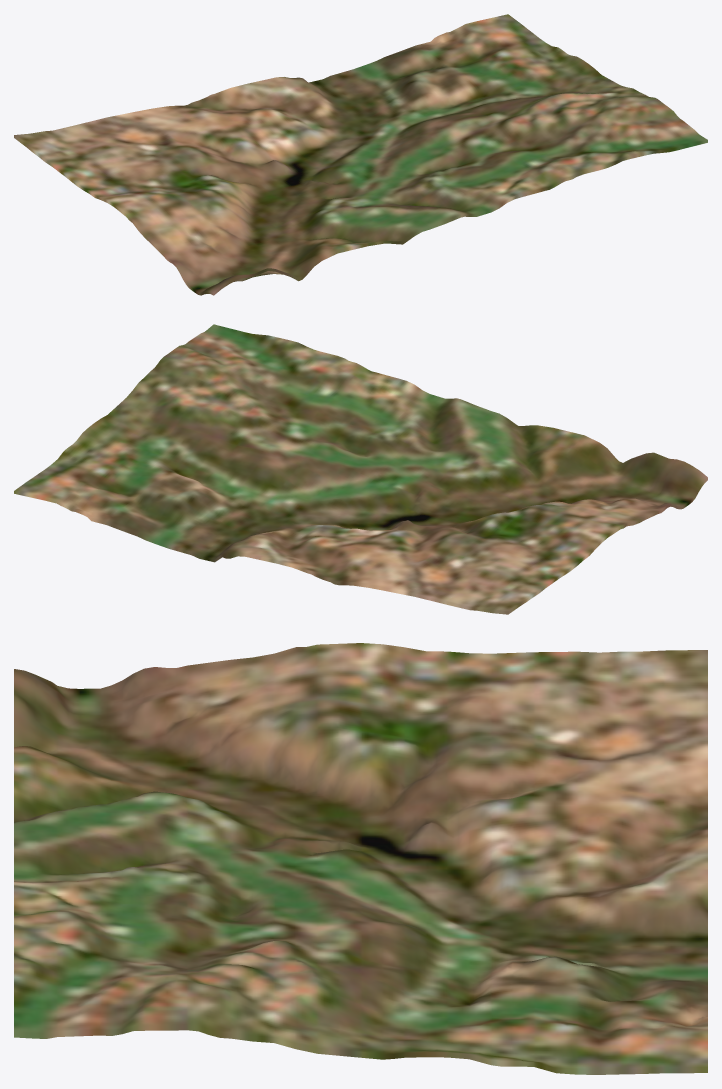
The model's file is terrain_r2_c0_lod1.glb.
3 views of the same model, one above another, from view 1: azimuth 30°, elevation 25°; view 2: azimuth 150°, elevation 25°; view 3: azimuth 270°, elevation 25° (orthographic). The views are drawn at different scales.
Parts seen in each view (by area): view 1: terrain_r2_c0_lod1; view 2: terrain_r2_c0_lod1; view 3: terrain_r2_c0_lod1.
Part boxes in pixels (x1,y1,x2,y2): terrain_r2_c0_lod1: [14, 14, 707, 295]; terrain_r2_c0_lod1: [14, 324, 707, 614]; terrain_r2_c0_lod1: [14, 643, 707, 1074].
Size of the model in its own units: 1125 by 113 by 787.
1 material, 1 textured.
